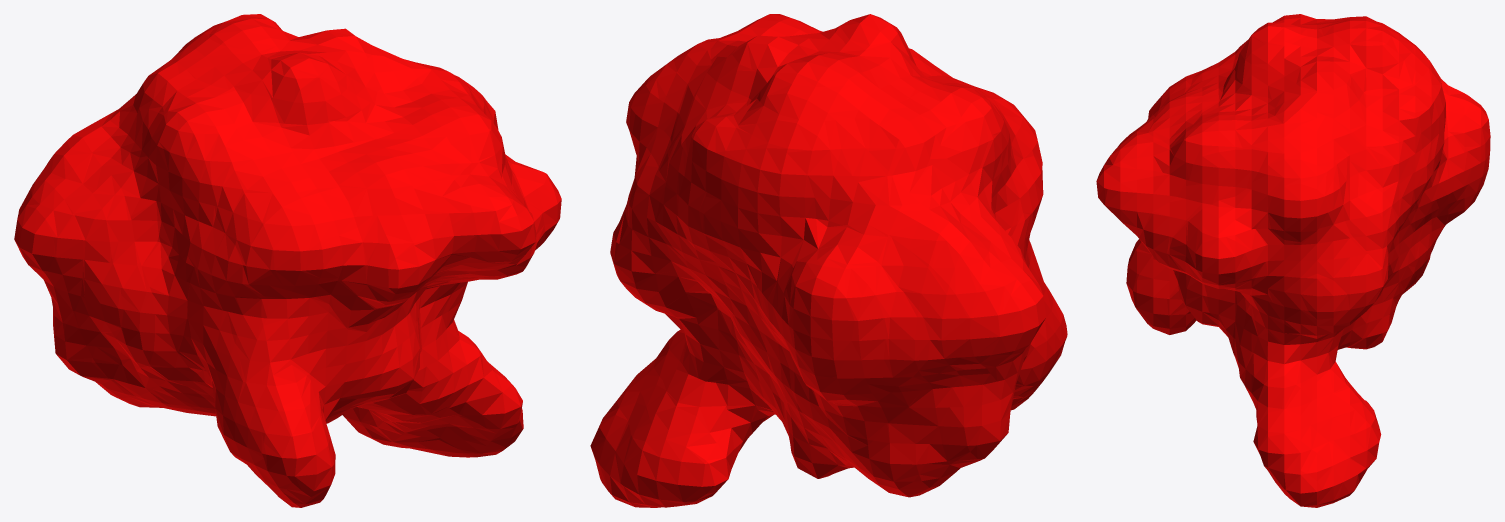
The model's file is yqeF_coarse.dae.
3 views of the same model, side by side, from view 1: azimuth 30°, elevation 25°; view 2: azimuth 150°, elevation 25°; view 3: azimuth 270°, elevation 25° (orthographic). The views are drawn at different scales.
Visible parts, largest first — view 1: yqeF; view 2: yqeF; view 3: yqeF.
Part boxes in pixels (x1,y1,x2,y2): yqeF: (14, 14, 561, 507); yqeF: (590, 14, 1067, 507); yqeF: (1096, 14, 1490, 507).
Bounding box in the file's own units: 65.07 × 63.65 × 57.
